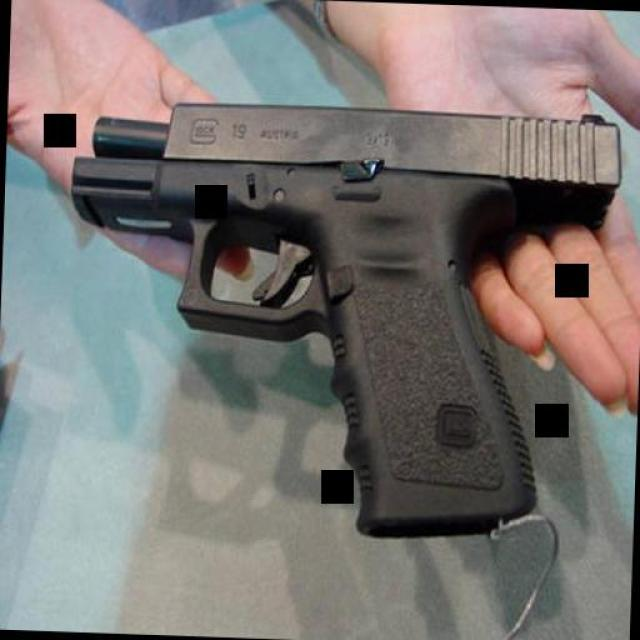gun: (55, 86, 617, 549)
